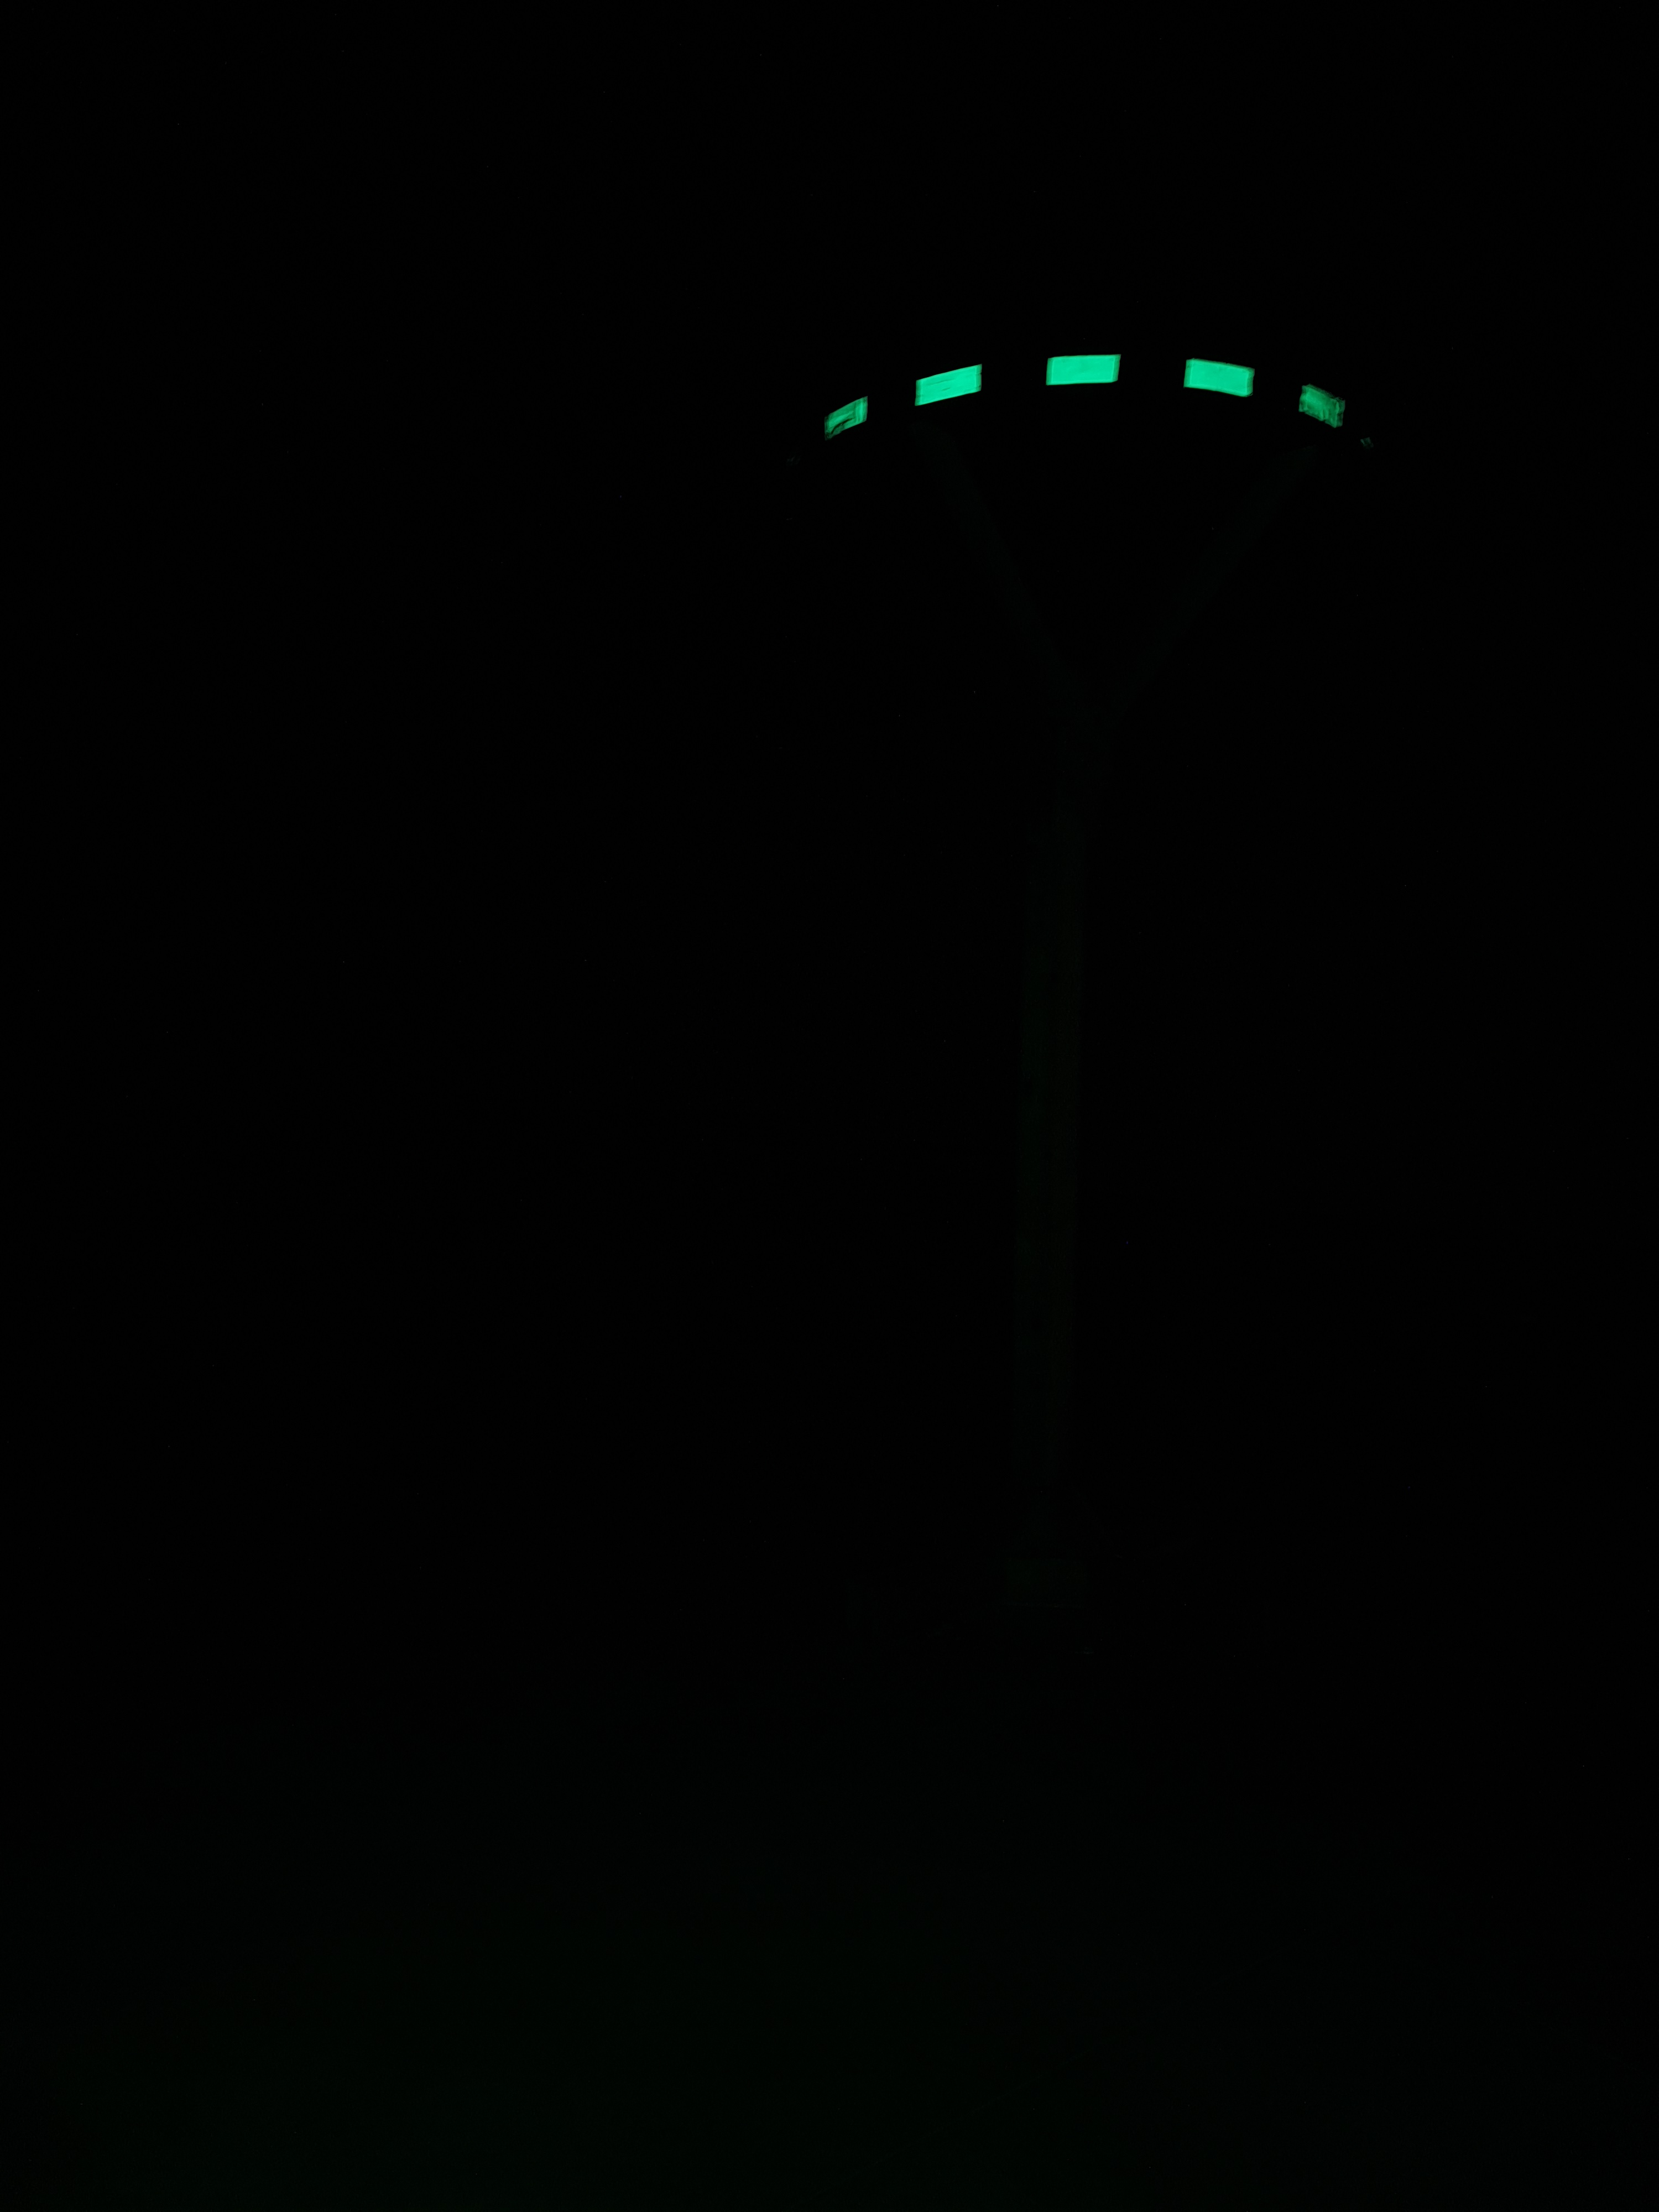hoop: (819, 348, 1349, 442)
